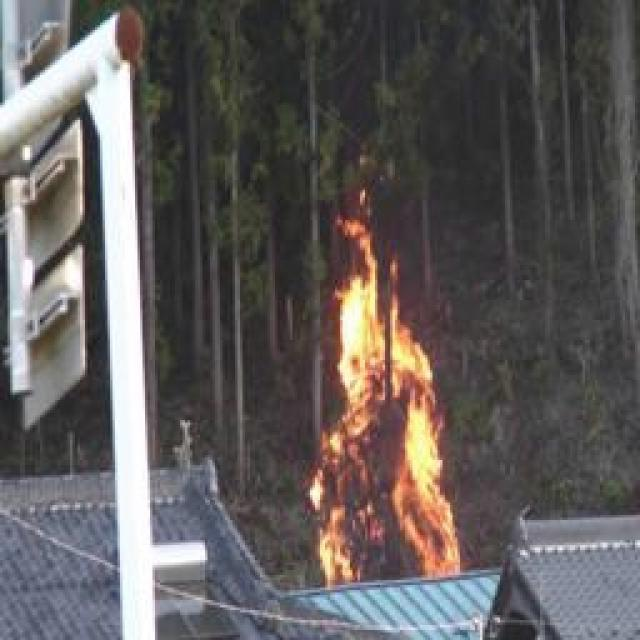Fire: (307, 213, 455, 578)
